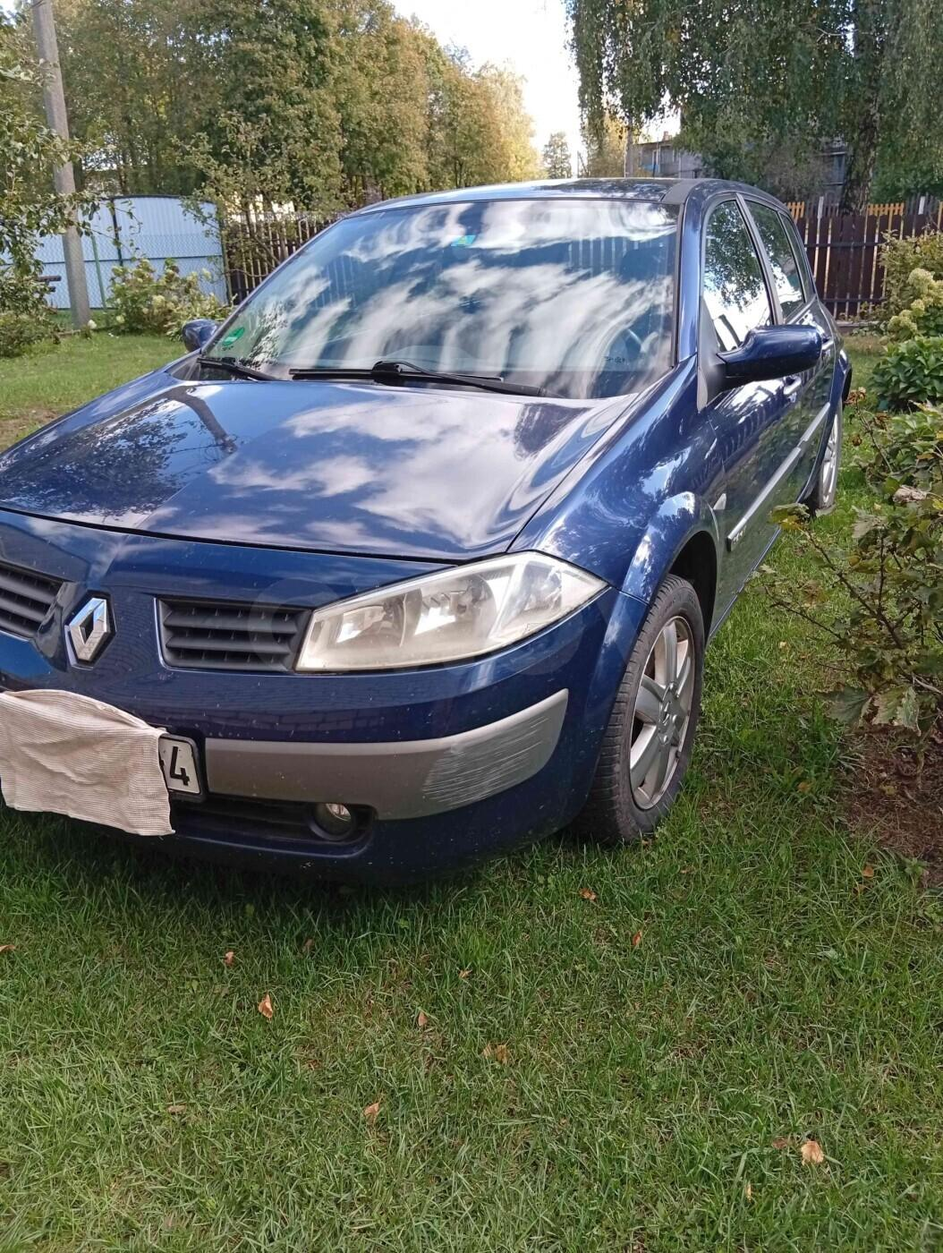Megane_2002-2006: (0, 174, 859, 881)
